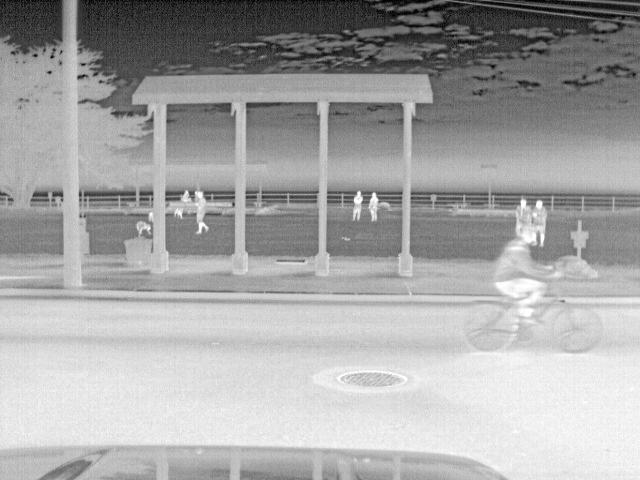dog: (133, 219, 152, 240), (172, 206, 187, 218)
person: (495, 227, 551, 321), (193, 190, 214, 234), (531, 196, 548, 246), (515, 195, 531, 227), (368, 191, 382, 224), (352, 190, 365, 222), (180, 188, 193, 204)
